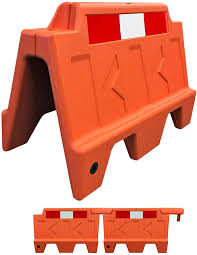barrier: (1, 1, 197, 200), (101, 207, 187, 255), (32, 208, 101, 253)
